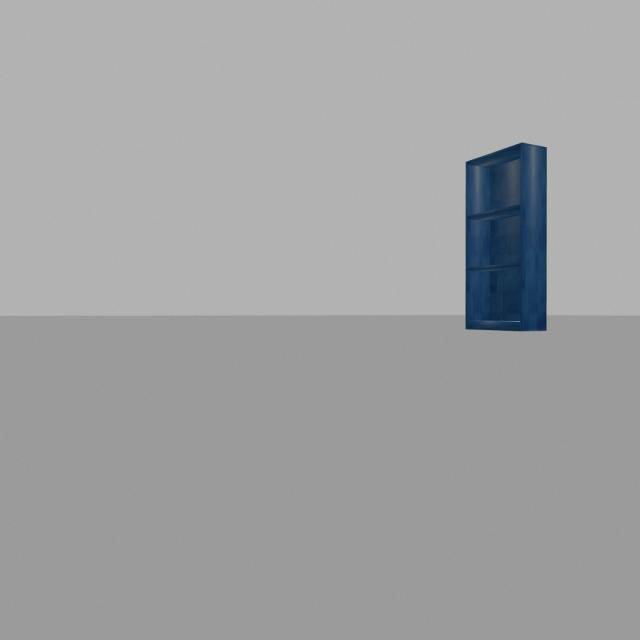shelf: (459, 132, 554, 351)
